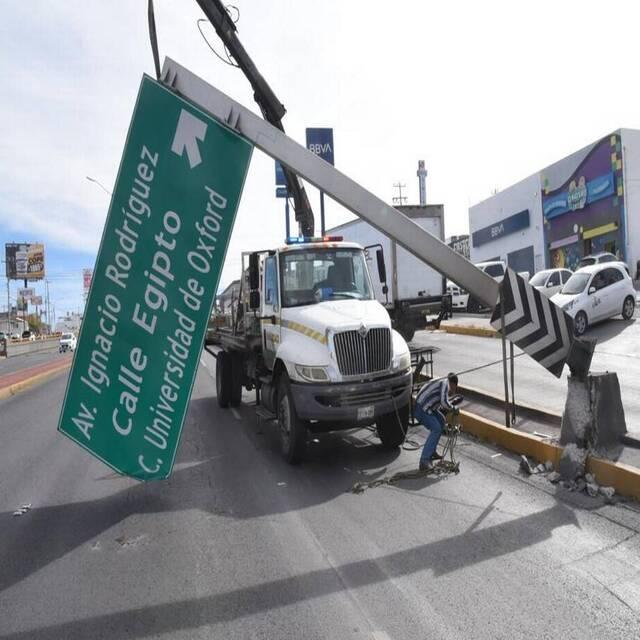Inclined Pole: (50, 55, 632, 488)
